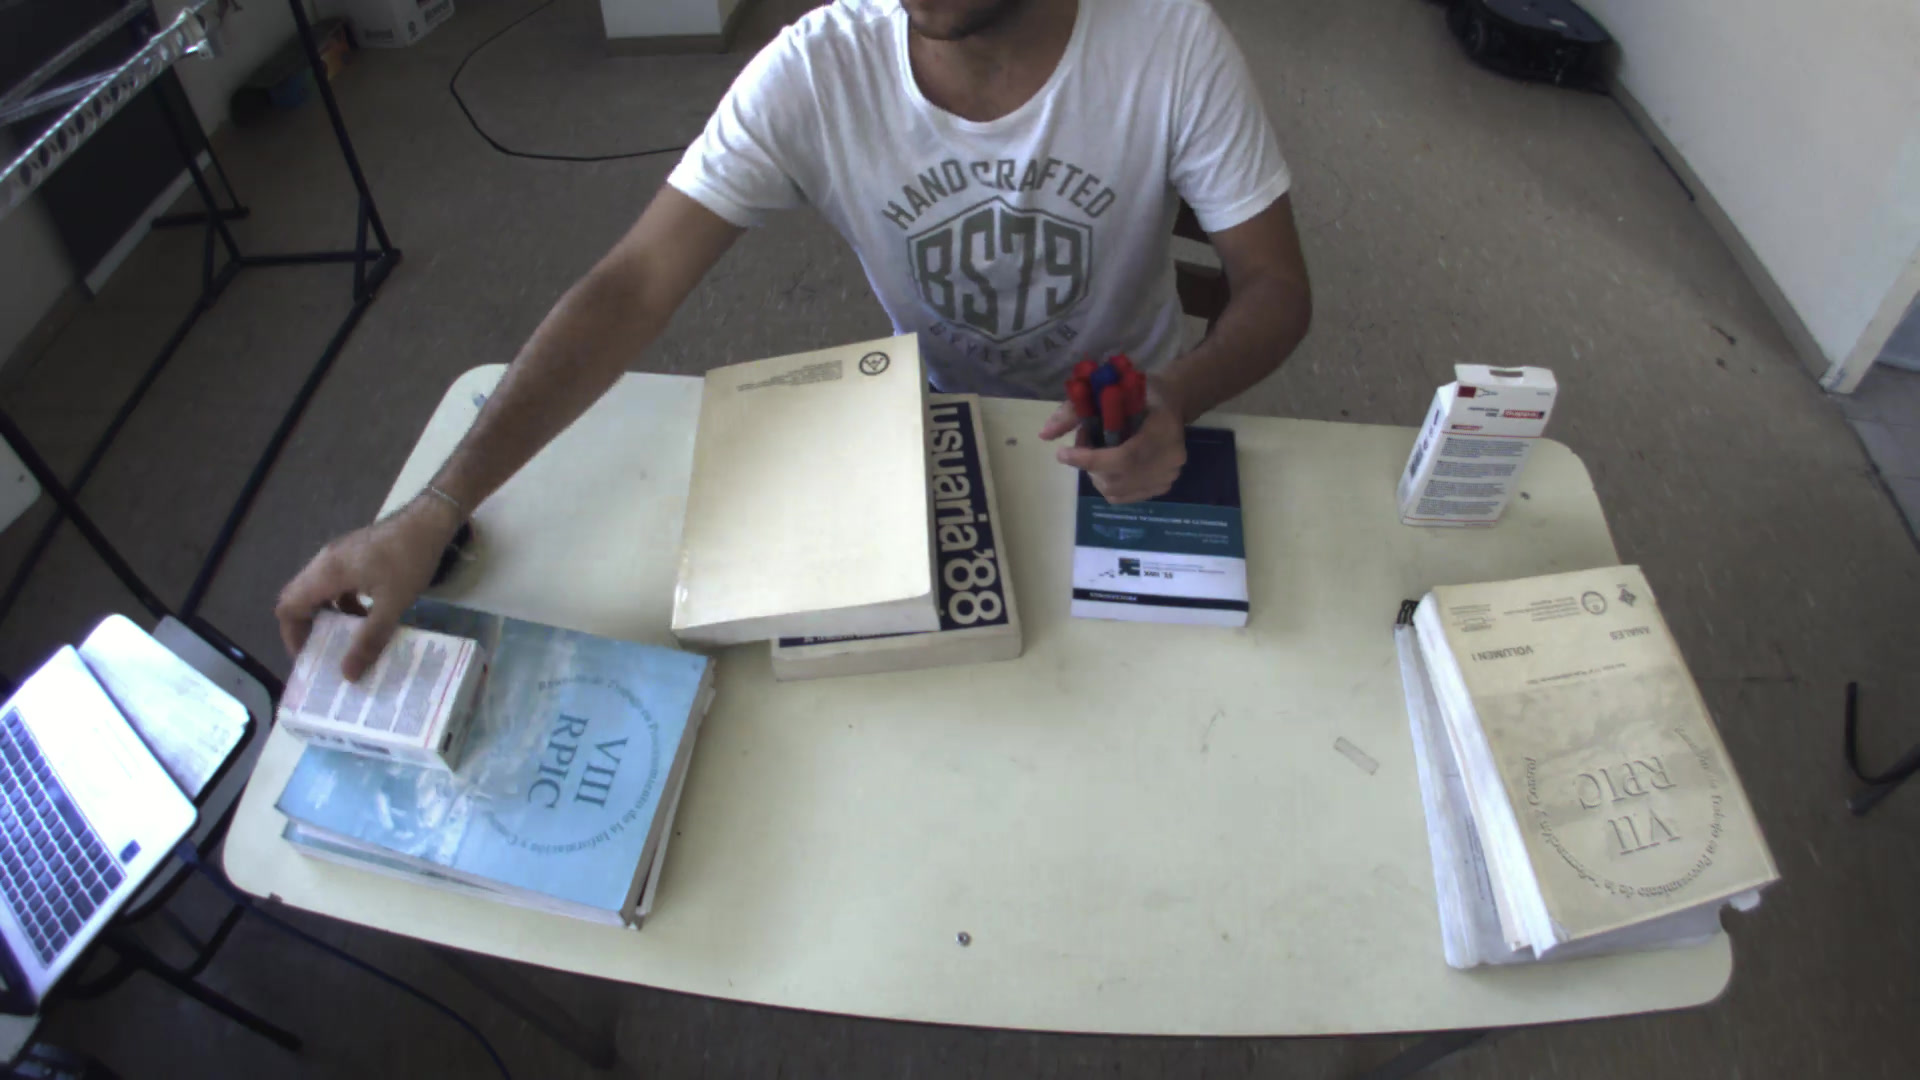hand: (265, 498, 456, 680), (1027, 345, 1207, 516)
